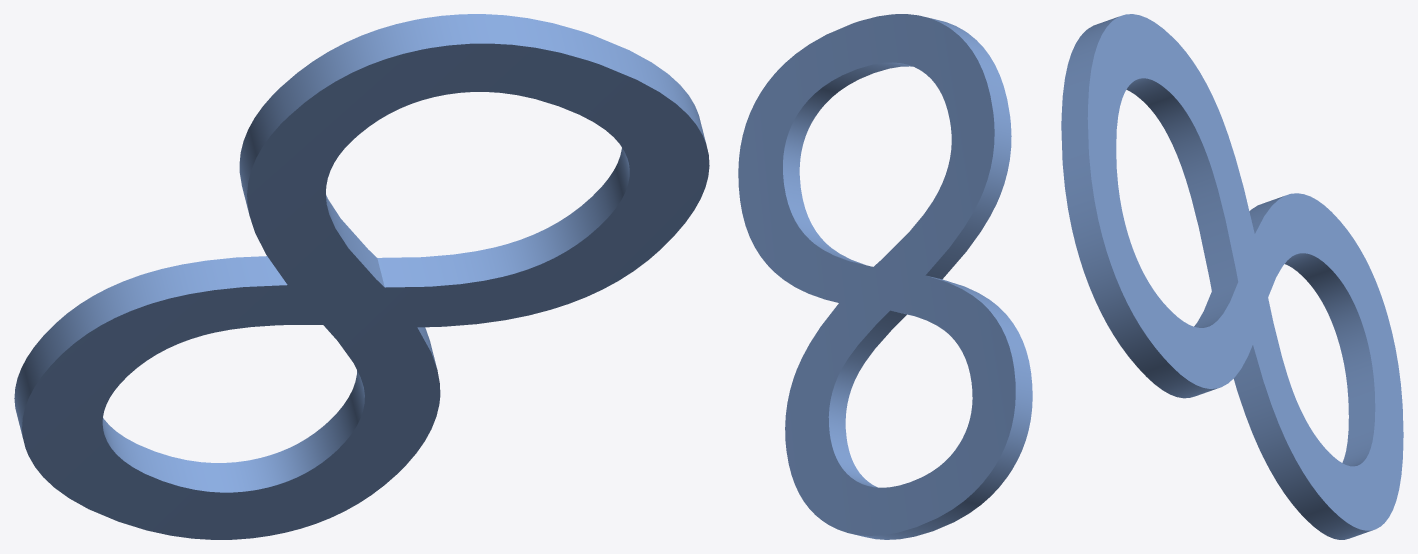
The model's file is Number_8.gltf.
The picture shows the model from 3 angles, left to right: view 1: azimuth 30°, elevation 25°; view 2: azimuth 150°, elevation 25°; view 3: azimuth 270°, elevation 25°; orthographic projection. The views are drawn at different scales.
Visible parts, largest first — view 1: Sub_2_Cell_1_2_Number_8; view 2: Sub_2_Cell_1_2_Number_8; view 3: Sub_2_Cell_1_2_Number_8.
Boxes of the visible parts, bbox=[...] form: Sub_2_Cell_1_2_Number_8: bbox=[14, 14, 709, 539]; Sub_2_Cell_1_2_Number_8: bbox=[738, 14, 1032, 539]; Sub_2_Cell_1_2_Number_8: bbox=[1061, 14, 1403, 539].
Bounding box in the file's own units: 0.0211 × 0.0232 × 0.014.
